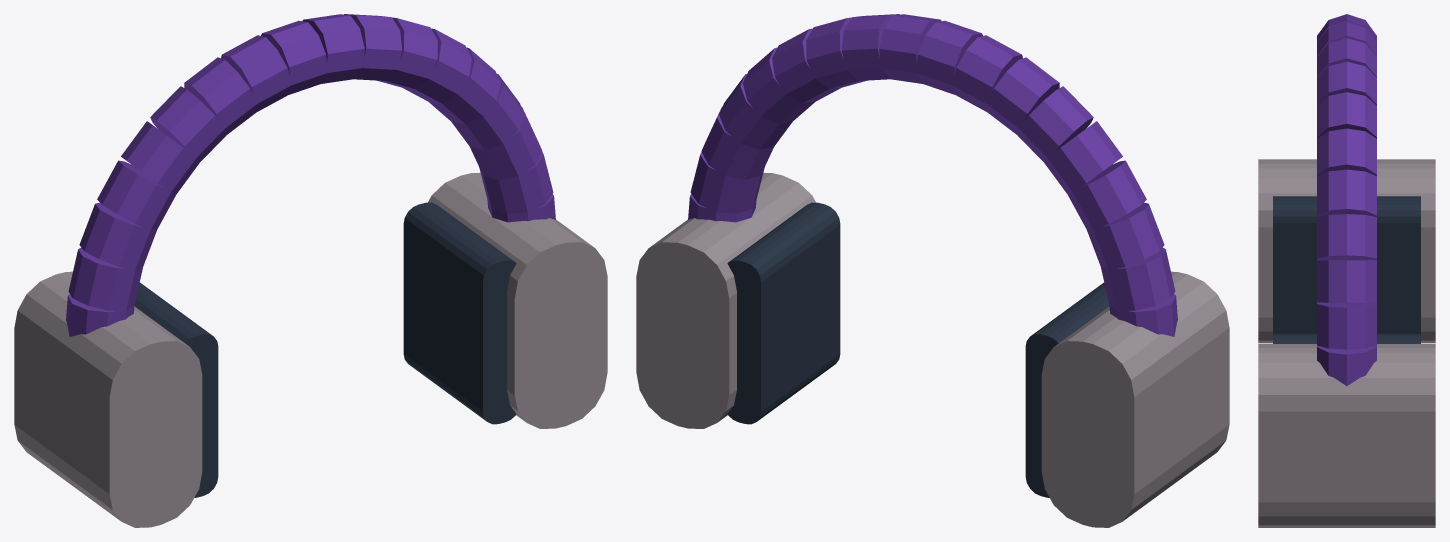
The model's file is headphones.glb.
The picture shows the model from 3 angles, left to right: view 1: azimuth 30°, elevation 25°; view 2: azimuth 150°, elevation 25°; view 3: azimuth 270°, elevation 25°; orthographic projection. The views are drawn at different scales.
Visible parts, largest first — view 1: left cup, right cup, right pad, left pad, headband15, headband14, headband12, headband16, headband11, headband13, headband10, headband9 (+10 smaller); view 2: left cup, right cup, right pad, left pad, headband15, headband14, headband12, headband16, headband11, headband13, headband10, headband9 (+10 smaller); view 3: right cup, left pad, left cup, headband1, headband3, headband4, headband2, headband5, headband6, headband7, headband0, headband8 (+3 smaller).
Part boxes in pixels (x1=…): left cup: x1=14, y1=271, x2=202, y2=527; right cup: x1=428, y1=172, x2=607, y2=428; right pad: x1=403, y1=202, x2=516, y2=424; left pad: x1=134, y1=282, x2=218, y2=497; headband15: x1=79, y1=202, x2=156, y2=269; headband14: x1=97, y1=160, x2=176, y2=230; headband12: x1=150, y1=86, x2=226, y2=162; headband16: x1=68, y1=247, x2=142, y2=310; headband11: x1=184, y1=57, x2=257, y2=134; headband13: x1=121, y1=121, x2=199, y2=194; headband10: x1=221, y1=35, x2=292, y2=111; headband9: x1=261, y1=20, x2=327, y2=94; left cup: x1=1041, y1=271, x2=1229, y2=527; right cup: x1=636, y1=172, x2=815, y2=428; right pad: x1=727, y1=202, x2=840, y2=424; left pad: x1=1025, y1=282, x2=1109, y2=497; headband15: x1=1087, y1=202, x2=1164, y2=270; headband14: x1=1067, y1=160, x2=1146, y2=230; headband12: x1=1017, y1=86, x2=1093, y2=162; headband16: x1=1101, y1=247, x2=1175, y2=310; headband11: x1=986, y1=57, x2=1059, y2=134; headband13: x1=1044, y1=121, x2=1122, y2=194; headband10: x1=951, y1=35, x2=1022, y2=111; headband9: x1=917, y1=20, x2=982, y2=94; right cup: x1=1258, y1=344, x2=1435, y2=527; left pad: x1=1273, y1=196, x2=1420, y2=333; left cup: x1=1258, y1=159, x2=1435, y2=343; headband1: x1=1317, y1=302, x2=1376, y2=349; headband3: x1=1317, y1=214, x2=1376, y2=259; headband4: x1=1317, y1=169, x2=1376, y2=216; headband2: x1=1317, y1=260, x2=1376, y2=302; headband5: x1=1317, y1=128, x2=1376, y2=176; headband6: x1=1317, y1=92, x2=1376, y2=138; headband7: x1=1317, y1=61, x2=1376, y2=105; headband0: x1=1317, y1=345, x2=1376, y2=385; headband8: x1=1317, y1=38, x2=1376, y2=77.
Bounding box in the file's own units: 1.45 × 1.17 × 0.48.
